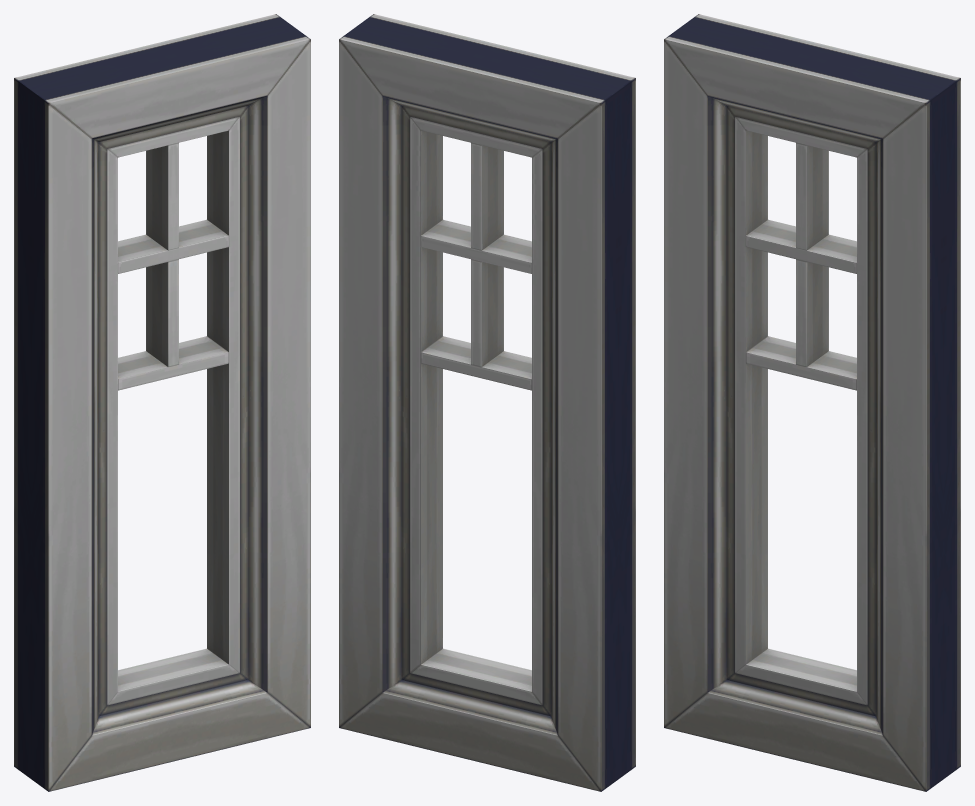
The model's file is ventanaSimple.fbx.
3 renders of one model, left to right at view 1: azimuth 30°, elevation 25°; view 2: azimuth 150°, elevation 25°; view 3: azimuth 330°, elevation 25°, orthographic.
Parts seen in each view (by area): view 1: ventana; view 2: ventana; view 3: ventana.
Boxes of the visible parts, box(x1,y1,x2,y2) form: ventana: box(14, 14, 310, 791); ventana: box(339, 14, 635, 791); ventana: box(664, 14, 960, 791).
Size of the model in its own units: 85 by 213 by 19.39.
3 materials, 3 textured.
